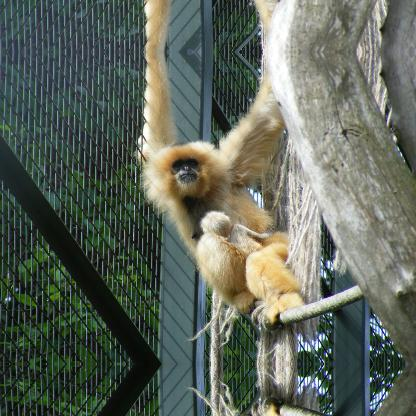Monkey: (133, 52, 285, 330)
